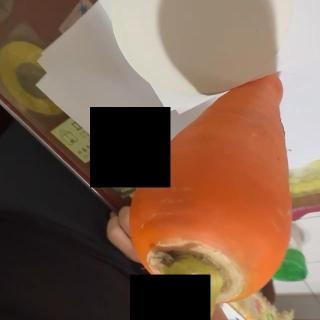carrot: (128, 75, 295, 320)
